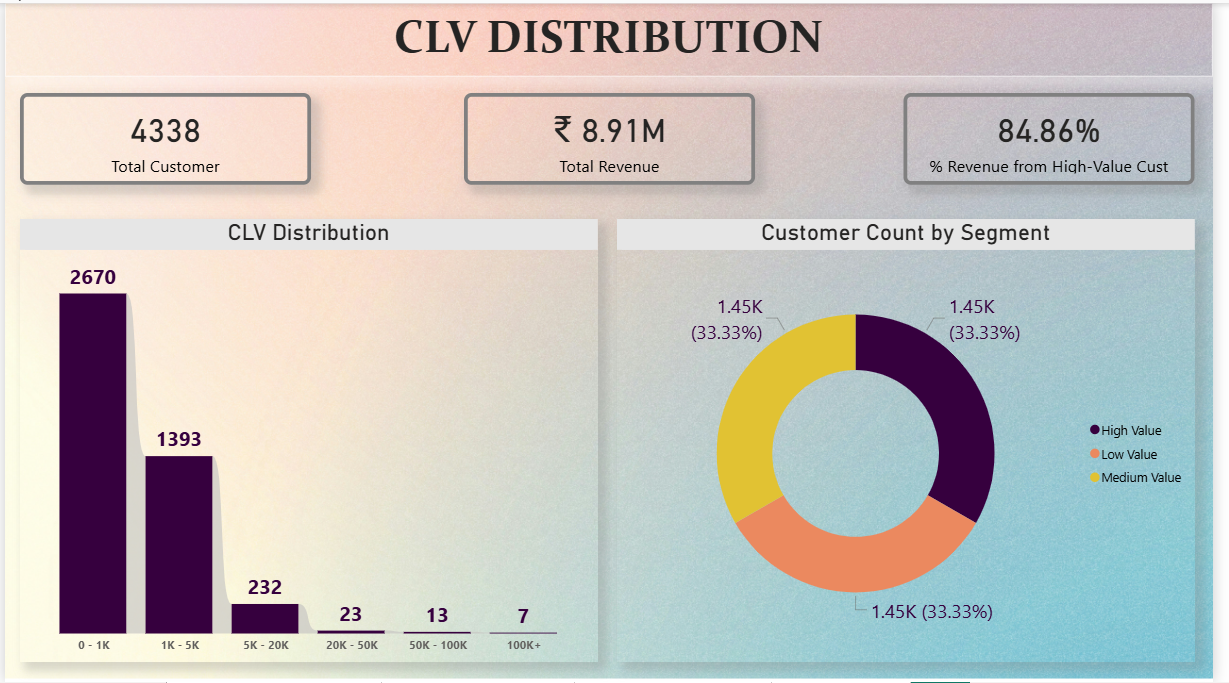

What the dashboard file says about the page in this screenshot:
{"tool":"powerbi","page":{"name":"CLV Distribution","canvas":[1280,720],"ordinal":1},"visuals":[{"type":"textbox","box":[0,0,1280.4,77.9],"z":0},{"type":"card","fields":{"Values":["CountNonNull(customer_clv.CustomerID)"]},"box":[15.9,95.4,308.6,97],"z":1000},{"type":"card","fields":{"Values":["Sum(customer_clv.TotalRevenue)"]},"box":[486.7,95.4,308.6,97],"z":2000},{"type":"card","fields":{"Values":["customer_clv.RevenueShare_HighValue"]},"box":[952.8,95.4,308.6,97],"z":3000},{"type":"columnChart","title":"Customer Count by CLV Range","fields":{"Y":["CountNonNull(customer_clv.CustomerID)"],"Category":["customer_clv.CLV Bin"]},"box":[15.9,229,612.4,469.2],"z":4000},{"type":"donutChart","title":"Customer Count by Segment","fields":{"Category":["customer_clv.CLV_Segment"],"Y":["CountNonNull(customer_clv.CustomerID)"]},"box":[649,229,612.4,469.2],"z":5000}]}

Visuals, with their boxes in screenshot pixels (x1, y1, x2, y2), scaled from the page's 1280x720 canvas onto the 1229x683 screenshot:
textbox: <bbox>0, 0, 1228, 74</bbox>
card - CountNonNull(customer_clv.CustomerID): <bbox>15, 90, 312, 183</bbox>
card - Sum(customer_clv.TotalRevenue): <bbox>467, 90, 764, 183</bbox>
card - customer_clv.RevenueShare_HighValue: <bbox>915, 90, 1211, 183</bbox>
"Customer Count by CLV Range" columnChart: <bbox>15, 217, 603, 662</bbox>
"Customer Count by Segment" donutChart: <bbox>623, 217, 1211, 662</bbox>
